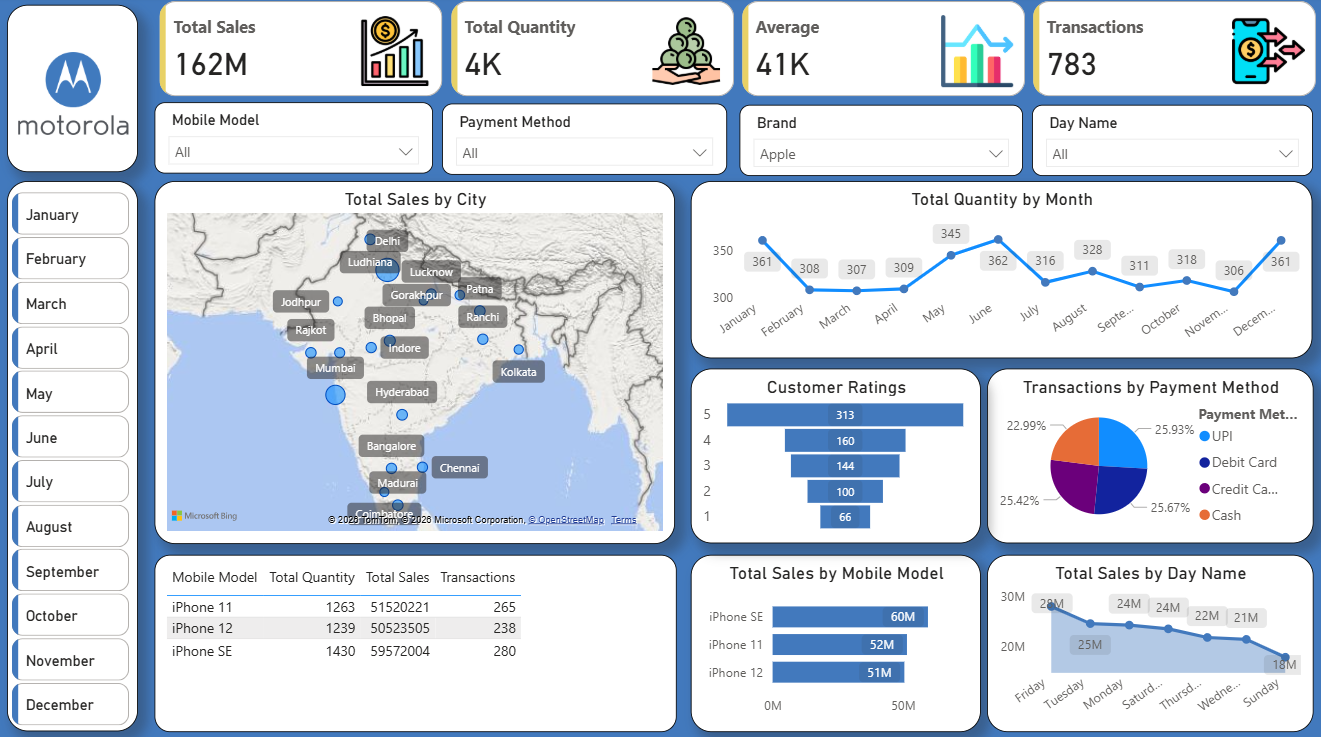

Layout of this report page (visuals, bound fields, positions):
{"tool":"powerbi","page":{"name":"Page 1","canvas":[1280,720],"ordinal":0},"visuals":[{"type":"shape","box":[10,8.8,126.2,161.2],"z":0},{"type":"image","box":[16.2,17.5,116.2,152.5],"z":1000},{"type":"shape","box":[10,178.8,126.2,531.2],"z":2000},{"type":"advancedSlicerVisual","fields":{"Values":["sales data.Date.Variation.Date Hierarchy.Month"]},"box":[10,185,123.8,535],"z":3000},{"type":"cardVisual","fields":{"Data":["sales data.Total Sales","sales data.Total Quantity","sales data.Average","sales data.Transactions"]},"box":[152.5,0,1126.2,102.5],"z":4000},{"type":"map","fields":{"Category":["sales data.City"],"Size":["sales data.Total Sales"]},"box":[152.5,178.8,502.5,350],"z":5000},{"type":"lineChart","fields":{"Category":["sales data.Date.Variation.Date Hierarchy.Month","sales data.Date.Variation.Date Hierarchy.Day"],"Y":["sales data.Total Quantity"]},"box":[670,178.8,600,171.2],"z":6000},{"type":"clusteredBarChart","fields":{"Category":["sales data.Mobile Model"],"Y":["sales data.Total Sales"]},"box":[670,538.8,280,171.2],"z":7000},{"type":"pieChart","fields":{"Y":["sales data.Transactions"],"Category":["sales data.Payment Method"]},"box":[955,360,315,168.8],"z":8000},{"type":"funnel","title":"Customer Ratings ","fields":{"Category":["sales data.Customer Ratings"],"Y":["CountNonNull(sales data.Customer Ratings)"]},"box":[670,360,280,168.8],"z":9000},{"type":"tableEx","fields":{"Values":["sales data.Mobile Model","sales data.Total Quantity","sales data.Total Sales","sales data.Transactions"]},"box":[152.5,538.8,503.8,171.2],"z":10000},{"type":"slicer","fields":{"Values":["sales data.Mobile Model"]},"box":[152.5,102.5,268.8,68.8],"z":11000},{"type":"slicer","fields":{"Values":["sales data.Payment Method"]},"box":[430,103.8,275,68.8],"z":12000},{"type":"slicer","fields":{"Values":["sales data.Brand"]},"box":[716.2,105,273.8,68.8],"z":13000},{"type":"slicer","fields":{"Values":["sales data.Day Name"]},"box":[998.8,105,271.2,68.8],"z":14000},{"type":"areaChart","fields":{"Category":["sales data.Day Name"],"Y":["sales data.Total Sales"]},"box":[955,539,315,171],"z":15000}]}

Visuals, with their boxes in screenshot pixels (x1, y1, x2, y2), scaled from the page's 1280x720 canvas onto the 1321x737 screenshot:
shape: <bbox>10, 9, 141, 174</bbox>
image: <bbox>17, 18, 137, 174</bbox>
shape: <bbox>10, 183, 141, 727</bbox>
advancedSlicerVisual - sales data.Date.Variation.Date Hierarchy.Month: <bbox>10, 189, 138, 736</bbox>
cardVisual - sales data.Total Sales x sales data.Total Quantity: <bbox>157, 0, 1320, 105</bbox>
map - sales data.City x sales data.Total Sales: <bbox>157, 183, 676, 541</bbox>
lineChart - sales data.Date.Variation.Date Hierarchy.Month x sales data.Date.Variation.Date Hierarchy.Day: <bbox>691, 183, 1311, 358</bbox>
clusteredBarChart - sales data.Mobile Model x sales data.Total Sales: <bbox>691, 552, 980, 727</bbox>
pieChart - sales data.Transactions x sales data.Payment Method: <bbox>986, 368, 1311, 541</bbox>
"Customer Ratings " funnel: <bbox>691, 368, 980, 541</bbox>
tableEx - sales data.Mobile Model x sales data.Total Quantity: <bbox>157, 552, 677, 727</bbox>
slicer - sales data.Mobile Model: <bbox>157, 105, 435, 175</bbox>
slicer - sales data.Payment Method: <bbox>444, 106, 728, 177</bbox>
slicer - sales data.Brand: <bbox>739, 107, 1022, 178</bbox>
slicer - sales data.Day Name: <bbox>1031, 107, 1311, 178</bbox>
areaChart - sales data.Day Name x sales data.Total Sales: <bbox>986, 552, 1311, 727</bbox>
